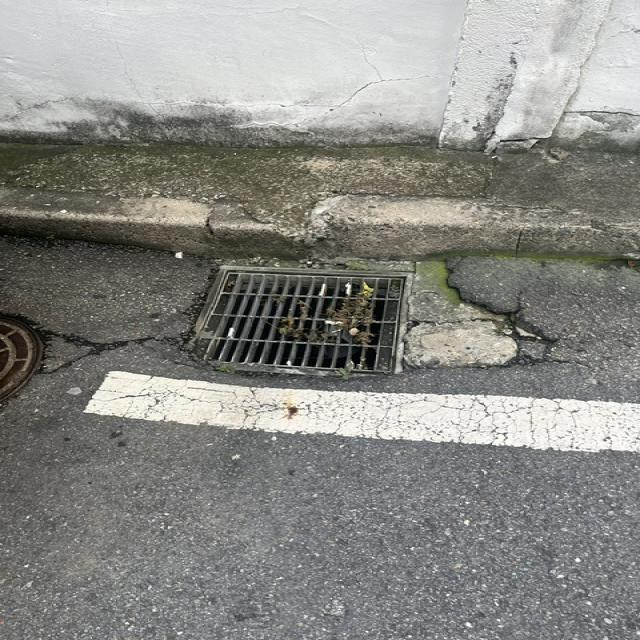drain_area: (205, 275, 387, 370)
drain_full: (185, 273, 404, 373)
